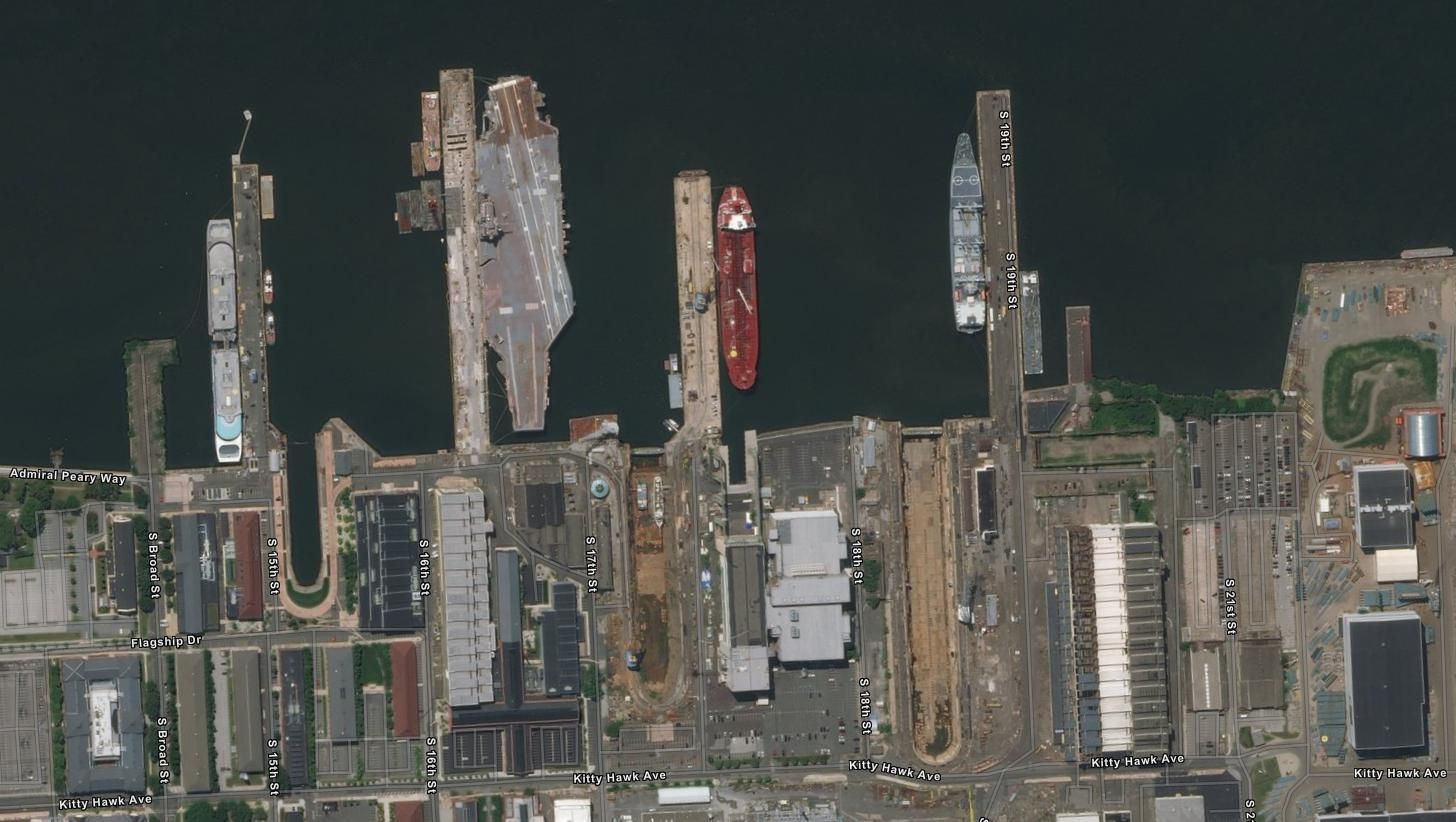carrier: (455, 44, 577, 443)
